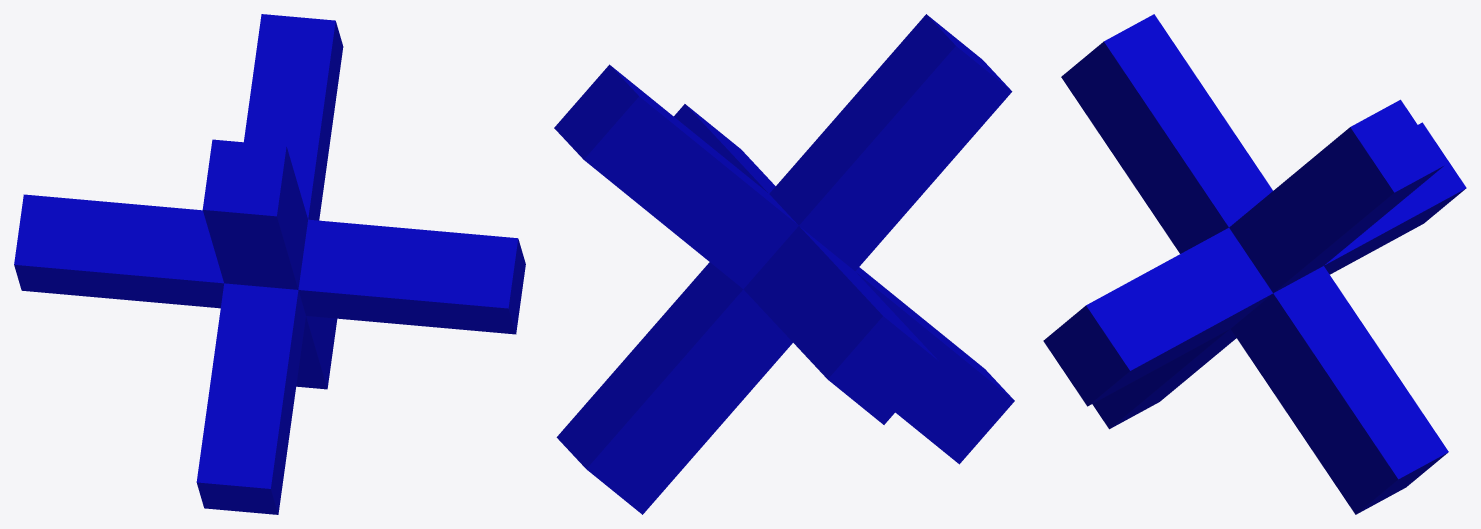
File: dead_star.gltf
The picture shows the model from 3 angles, left to right: view 1: azimuth 30°, elevation 25°; view 2: azimuth 150°, elevation 25°; view 3: azimuth 270°, elevation 25°; orthographic projection. The views are drawn at different scales.
Parts seen in each view (by area): view 1: Cube, Cube.003_Cube, Cube.001_Cube; view 2: Cube.001_Cube, Cube.003_Cube, Cube; view 3: Cube.001_Cube, Cube, Cube.003_Cube.
Boxes of the visible parts, box(x1,y1,x2,y2) form: Cube: box(14, 194, 525, 334); Cube.003_Cube: box(196, 14, 343, 514); Cube.001_Cube: box(202, 139, 337, 389); Cube.001_Cube: box(556, 14, 1012, 514); Cube.003_Cube: box(554, 64, 1014, 464); Cube: box(674, 104, 939, 424); Cube.001_Cube: box(1061, 14, 1448, 514); Cube: box(1043, 122, 1466, 406); Cube.003_Cube: box(1092, 99, 1444, 429).
Bounding box in the file's own units: 0.5608 × 0.5045 × 0.4935.
